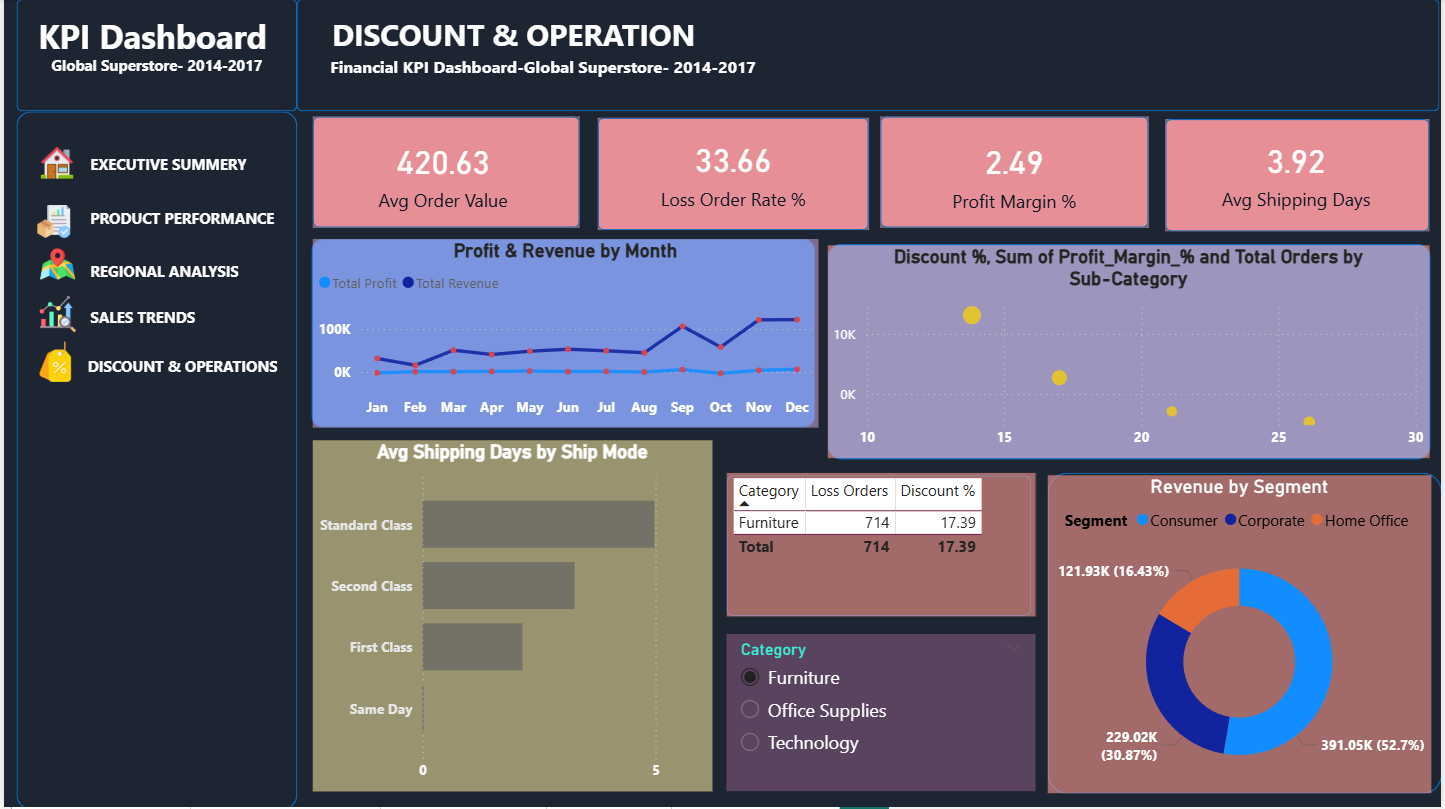

The page's visual inventory and layout, read from the dashboard file:
{"tool":"powerbi","page":{"name":"Discount & Profit","canvas":[1280,720],"ordinal":4},"visuals":[{"type":"shape","box":[10.7,0,250,100],"z":0},{"type":"shape","box":[10.7,100,250,621.4],"z":1000},{"type":"shape","box":[260.7,0,1017.9,100],"z":2000},{"type":"shape","box":[733.5,218.4,536.9,191.8],"z":3000},{"type":"shape","box":[273.3,213.9,448.6,167.8],"z":4000},{"type":"shape","box":[780.6,105,238.9,98.9],"z":5000},{"type":"scatterChart","fields":{"Category":["superstore_clean.Sub-Category"],"Size":["superstore_clean.Total Orders"],"Y":["Sum(superstore_clean.Profit_Margin_%)"],"X":["superstore_clean.Discount %"]},"box":[733.5,219.6,535.7,189.4],"z":6000},{"type":"shape","box":[528.4,106.2,241.3,100.1],"z":7000},{"type":"shape","box":[275.1,105,237.7,98.9],"z":8000},{"type":"shape","box":[1033.9,107.4,235.3,100.1],"z":9000},{"type":"shape","box":[643,424.7,271.4,125.5],"z":10000},{"type":"card","fields":{"Values":["DateTable.Avg Shipping Days"]},"box":[1038.7,106.2,224.4,96.5],"z":11000},{"type":"card","fields":{"Values":["DateTable.Loss Order Rate %"]},"box":[533.2,107.4,232.8,92.9],"z":12000},{"type":"shape","box":[929,422.3,351.1,285.9],"z":13000},{"type":"tableEx","fields":{"Values":["superstore_clean.Category","superstore_clean.Loss Orders","superstore_clean.Discount %"]},"box":[643,422.3,275.1,127.9],"z":14000},{"type":"donutChart","title":"Revenue by Segment","fields":{"Category":["superstore_clean.Segment"],"Y":["superstore_clean.Total Revenue"]},"box":[929,424.7,341.4,283.5],"z":15000},{"type":"lineChart","title":"Profit  & Revenue by Month","fields":{"Category":["DateTable.Month"],"Y":["superstore_clean.Total Profit","superstore_clean.Total Revenue"]},"box":[274.8,213.9,450,167.8],"z":16000},{"type":"clusteredBarChart","fields":{"Y":["DateTable.Avg Shipping Days"],"Category":["superstore_clean.Ship Mode"]},"box":[275.1,393.3,355.9,312.5],"z":17000},{"type":"card","fields":{"Values":["superstore_clean.Avg Order Value"]},"box":[277.5,109.8,228,89.3],"z":18000},{"type":"card","fields":{"Values":["superstore_clean.Profit Margin %"]},"box":[780.6,107.4,238.9,96.5],"z":19000},{"type":"shape","box":[290.8,10.9,475.3,57.9],"z":20000},{"type":"shape","box":[289.5,49.5,488.6,38.6],"z":21000},{"type":"shape","box":[29,10.9,226.8,57.9],"z":22000},{"type":"shape","box":[41,49.5,209.9,37.4],"z":23000},{"type":"shape","box":[77.2,124.3,190.6,43.4],"z":24000},{"type":"shape","box":[77.2,167.7,190.6,53.1],"z":25000},{"type":"shape","box":[77.2,220.8,190.6,43.4],"z":26000},{"type":"shape","box":[77.2,260.6,199.1,44.6],"z":27000},{"type":"shape","box":[74.8,305.2,176.1,43.4],"z":28000},{"type":"image","box":[25.3,131.5,43.4,29],"z":29000},{"type":"image","box":[25.3,182.2,37.4,31.4],"z":30000},{"type":"image","box":[29,220.8,37.4,31.4],"z":31000},{"type":"image","box":[26.5,264.2,42.2,33.8],"z":32000},{"type":"image","box":[25.3,305.2,39.8,36.2],"z":33000},{"type":"slicer","fields":{"Values":["superstore_clean.Category"]},"box":[643,565.8,275.1,139.9],"z":34000}]}

Visuals, with their boxes in screenshot pixels (x1, y1, x2, y2), scaled from the page's 1280x720 canvas onto the 1445x809 screenshot:
shape: [left=12, top=0, right=294, bottom=112]
shape: [left=12, top=112, right=294, bottom=808]
shape: [left=294, top=0, right=1443, bottom=112]
shape: [left=828, top=245, right=1434, bottom=461]
shape: [left=309, top=240, right=815, bottom=429]
shape: [left=881, top=118, right=1151, bottom=229]
scatterChart - superstore_clean.Sub-Category x superstore_clean.Total Orders: [left=828, top=247, right=1433, bottom=460]
shape: [left=597, top=119, right=869, bottom=232]
shape: [left=311, top=118, right=579, bottom=229]
shape: [left=1167, top=121, right=1433, bottom=233]
shape: [left=726, top=477, right=1032, bottom=618]
card - DateTable.Avg Shipping Days: [left=1173, top=119, right=1426, bottom=228]
card - DateTable.Loss Order Rate %: [left=602, top=121, right=865, bottom=225]
shape: [left=1049, top=475, right=1444, bottom=796]
tableEx - superstore_clean.Category x superstore_clean.Loss Orders: [left=726, top=475, right=1036, bottom=618]
"Revenue by Segment" donutChart: [left=1049, top=477, right=1434, bottom=796]
"Profit  & Revenue by Month" lineChart: [left=310, top=240, right=818, bottom=429]
clusteredBarChart - DateTable.Avg Shipping Days x superstore_clean.Ship Mode: [left=311, top=442, right=712, bottom=793]
card - superstore_clean.Avg Order Value: [left=313, top=123, right=571, bottom=224]
card - superstore_clean.Profit Margin %: [left=881, top=121, right=1151, bottom=229]
shape: [left=328, top=12, right=865, bottom=77]
shape: [left=327, top=56, right=878, bottom=99]
shape: [left=33, top=12, right=289, bottom=77]
shape: [left=46, top=56, right=283, bottom=98]
shape: [left=87, top=140, right=302, bottom=188]
shape: [left=87, top=188, right=302, bottom=248]
shape: [left=87, top=248, right=302, bottom=297]
shape: [left=87, top=293, right=312, bottom=343]
shape: [left=84, top=343, right=283, bottom=392]
image: [left=29, top=148, right=78, bottom=180]
image: [left=29, top=205, right=71, bottom=240]
image: [left=33, top=248, right=75, bottom=283]
image: [left=30, top=297, right=78, bottom=335]
image: [left=29, top=343, right=73, bottom=384]
slicer - superstore_clean.Category: [left=726, top=636, right=1036, bottom=793]
